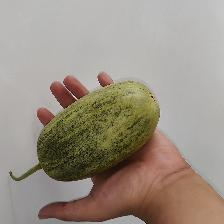gua: (33, 107, 138, 164)
